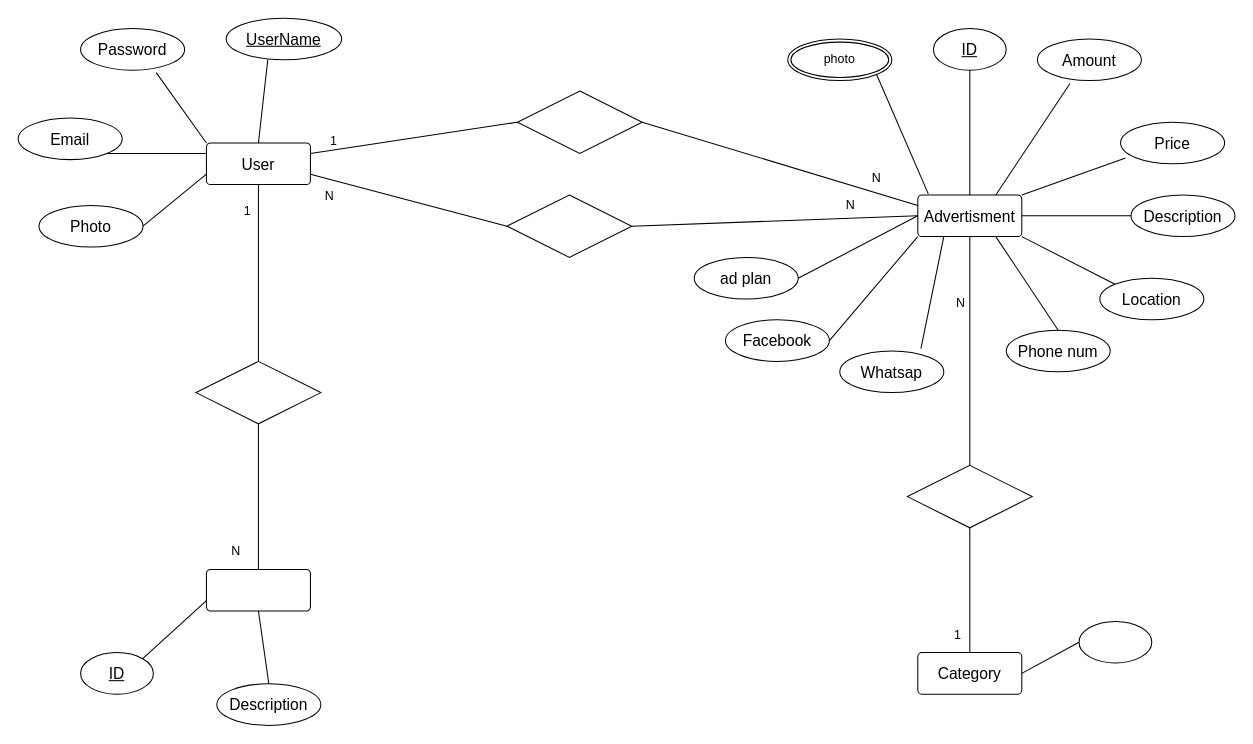
The diagram is 1253 pixels wide and 744 high, and some of its shapes have lost their labels. Here are the shapes that lost their labels. From the top down, the box of each, then its label:
(516, 90, 642, 153): Publish
(506, 194, 632, 257): Add to fav
(195, 360, 321, 424): Send
(906, 464, 1032, 528): Select
(205, 568, 310, 611): Report
(1078, 620, 1152, 663): Name
